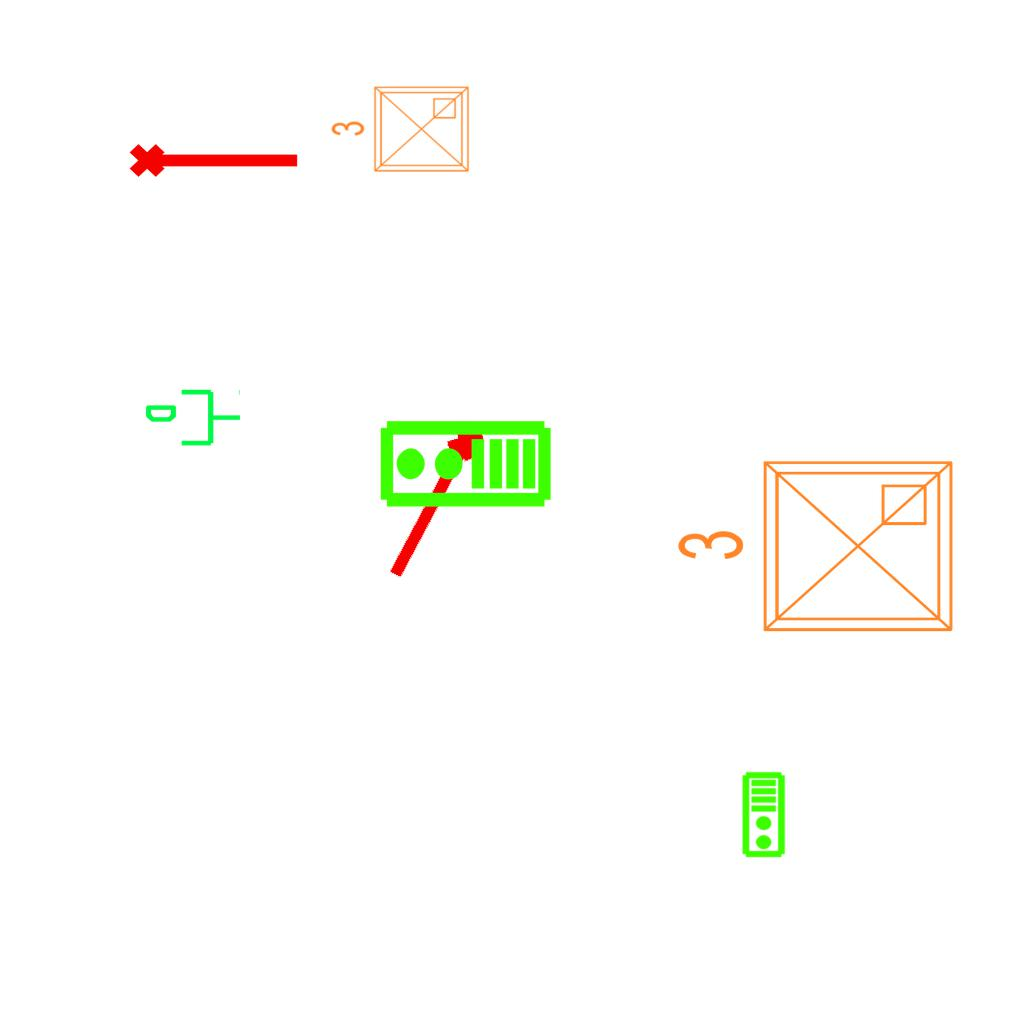ASR_Ansaugoeffnung: (374, 414, 498, 592), (127, 135, 303, 181)
Datenanschluss_einfach: (143, 385, 243, 454)
Einbaudownlights_LED_Konferenzraeume: (667, 446, 967, 654), (326, 79, 476, 183)
Gegensprechanlage_mit_Video: (377, 418, 553, 513), (741, 771, 788, 859)
